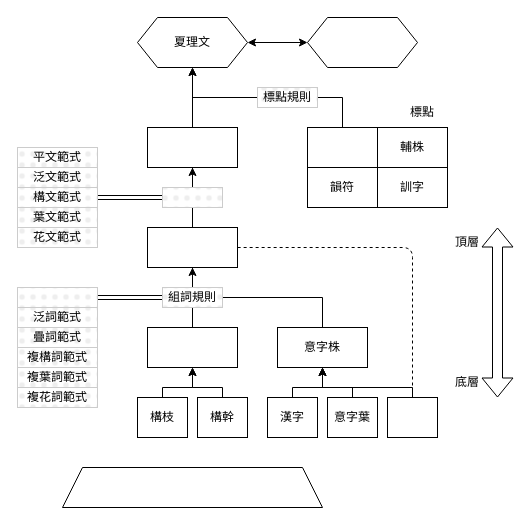
The diagram is 531 pixels wide and 525 high, and some of its shapes have lost their labels. Here are the shapes that lost their labels. From the top down, the box of each, then its label:
(306, 16, 418, 68): 夏理文Latin轉寫
(146, 126, 238, 168): 素文
(306, 126, 378, 168): 普通標點
(162, 186, 222, 208): 成文規則
(146, 226, 238, 268): 詞語
(16, 286, 98, 308): 平詞範式
(146, 326, 238, 368): 構字株
(386, 396, 438, 438): 意字花
(62, 466, 322, 508): 夏理 Latin 正字法
